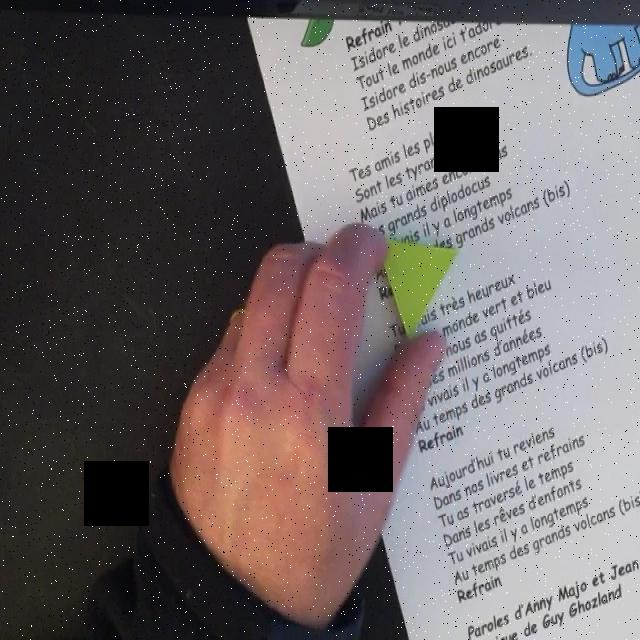triangle: (373, 227, 457, 342)
